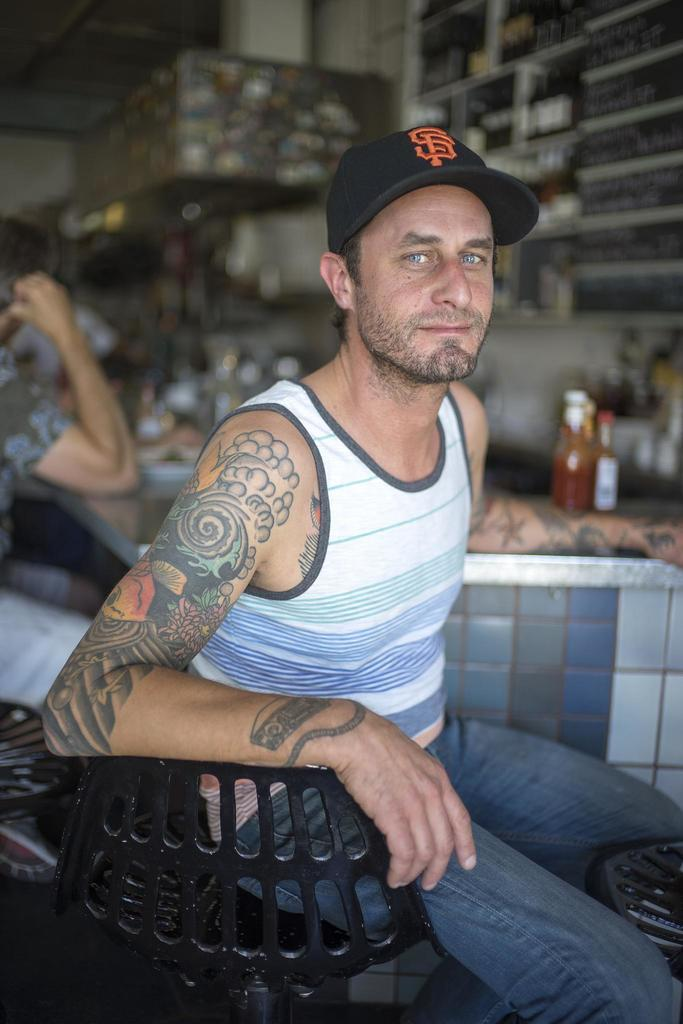Hat: (322, 127, 539, 252)
